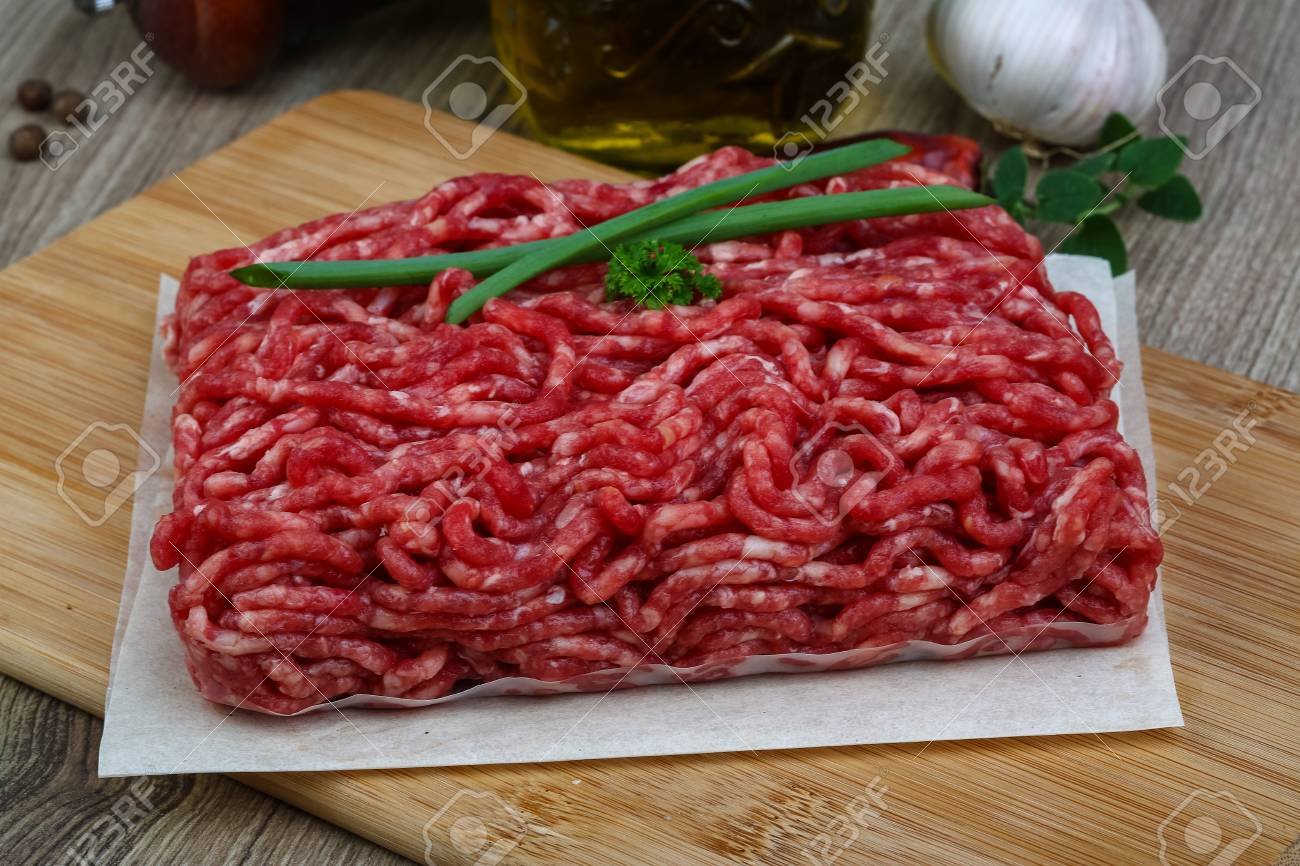ground_beef: (135, 146, 1149, 680)
